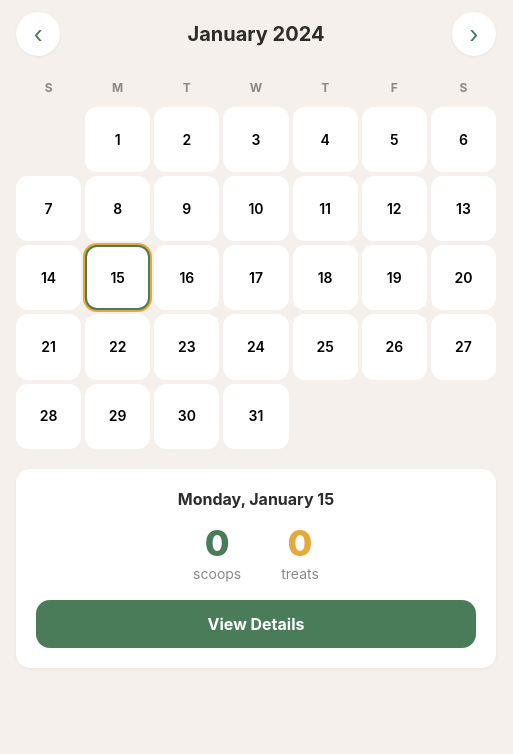
Test: Calendar › prev from January wraps to previous December
expect the heading "January 2024" is shown: met, box [188,22,324,46]
Click the button named "Previous month".
click(38, 34)  # box [16,12,60,56]
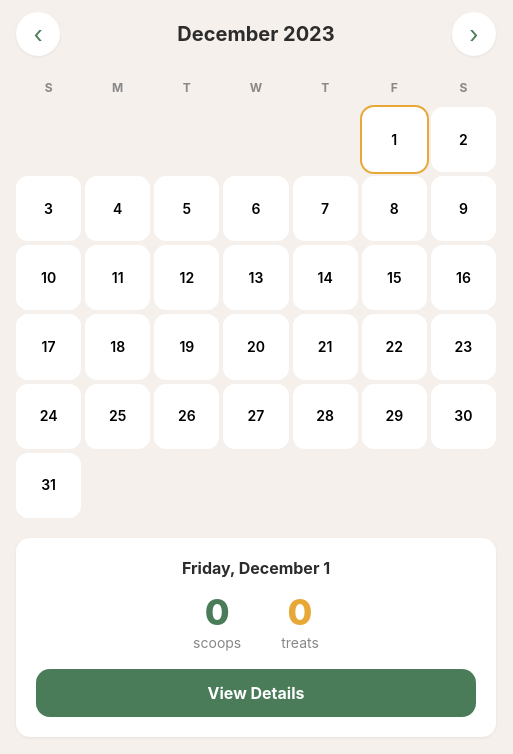
expect the heading "December 2023" is shown: met, box [177,22,335,46]
